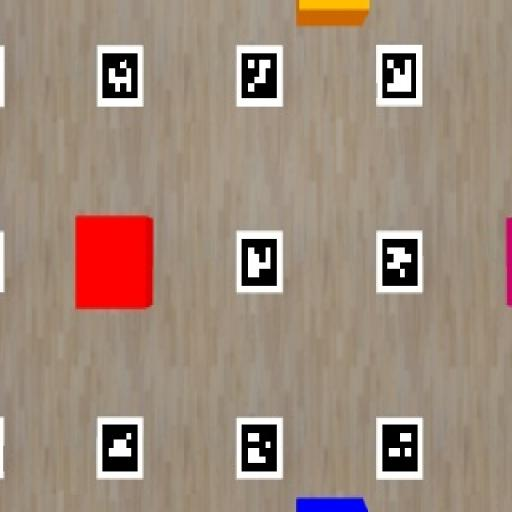car: (295, 498, 367, 511), (506, 218, 511, 307)
fire: (76, 216, 153, 309), (296, 0, 371, 25)
